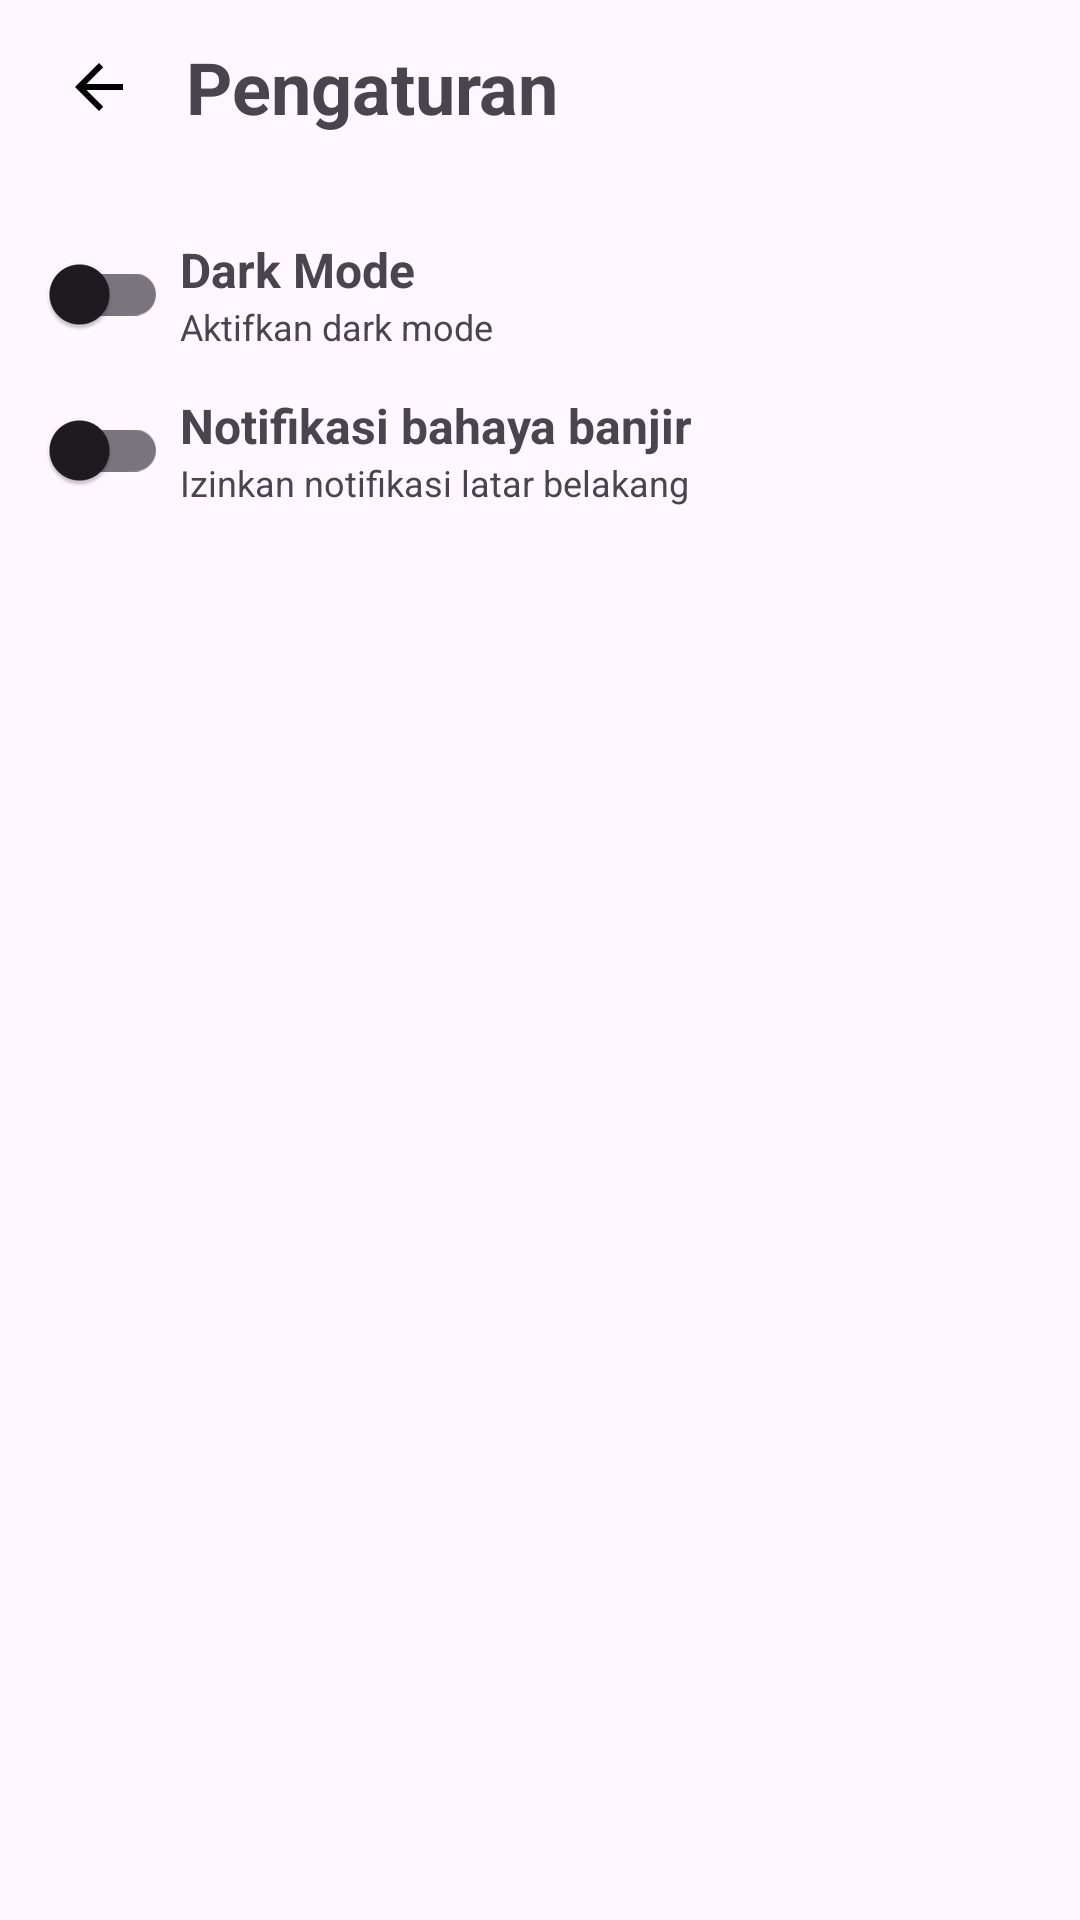

Named icons in this screenshot (1080x1920) and their bounding boxes, box=[x1, y1, x2, y2]:
arrow back: box=[75, 63, 123, 111]
